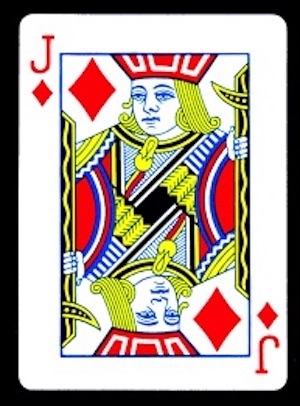JackOfDiamonds: (9, 14, 289, 395)
